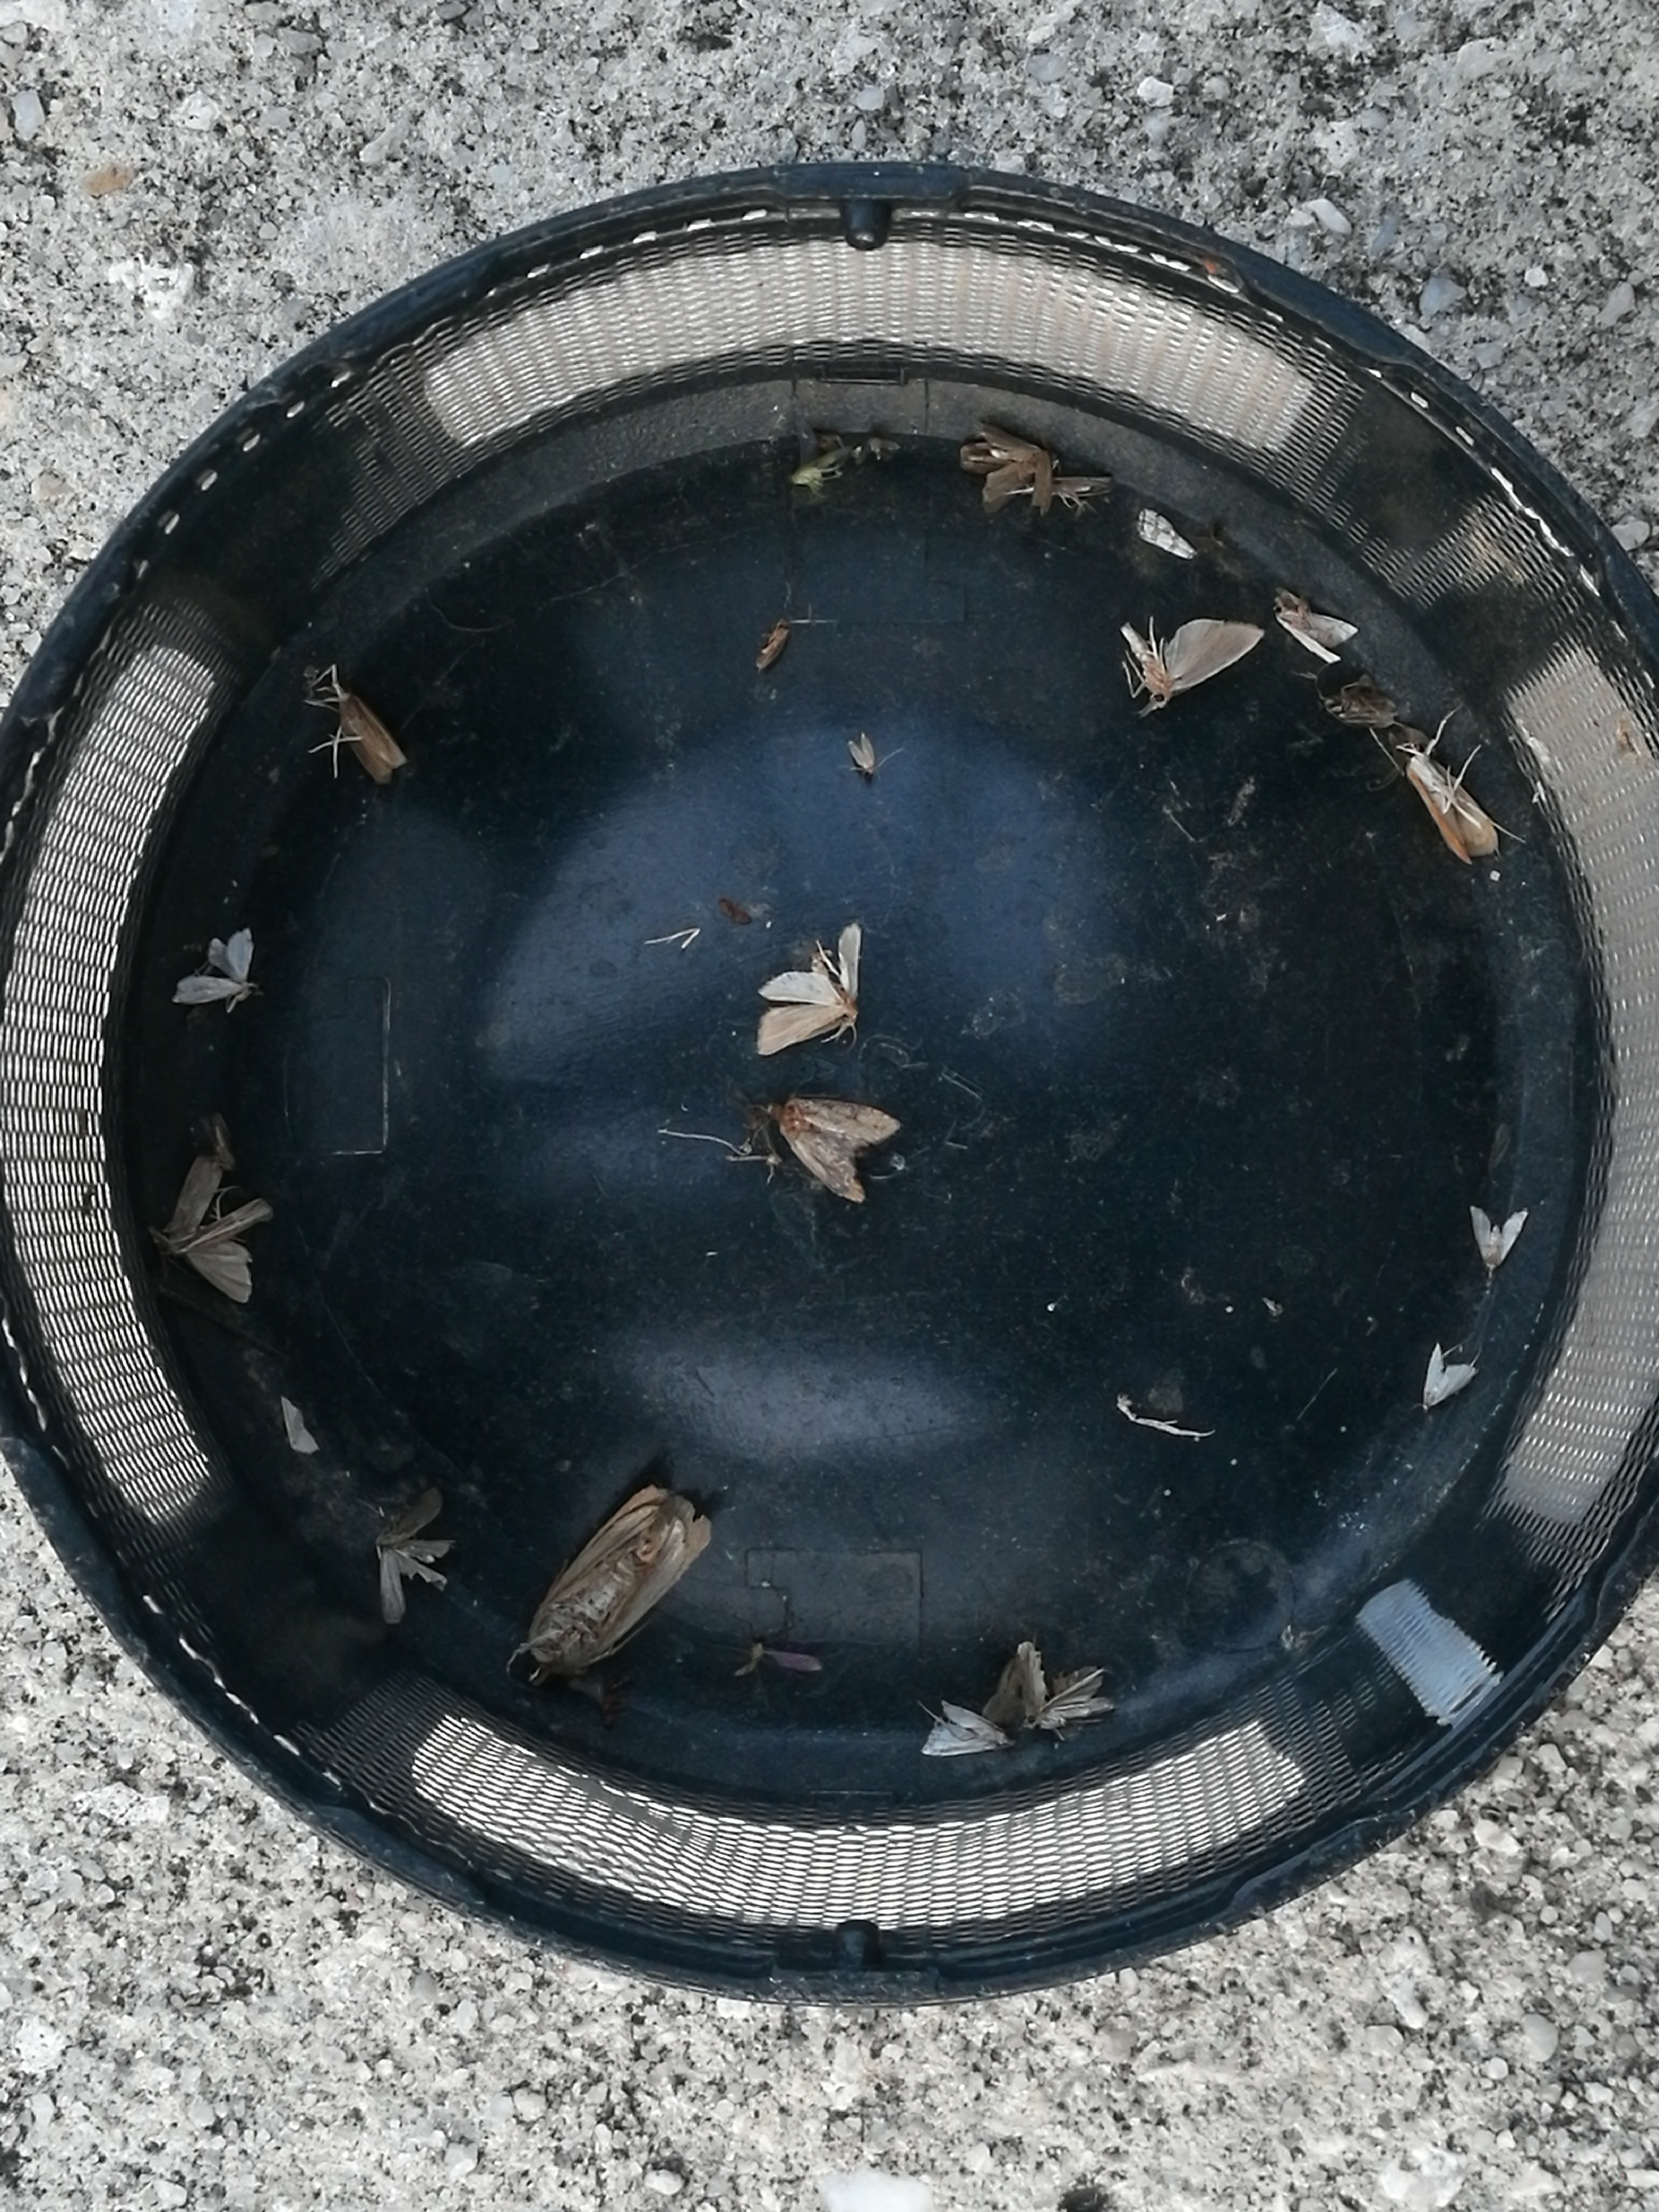mosquito: (338, 695, 404, 780), (1049, 474, 1114, 502)
moth: (528, 1484, 709, 1669), (164, 1158, 272, 1303), (769, 1096, 903, 1200), (755, 925, 861, 1055), (1121, 622, 1265, 714), (378, 1489, 455, 1622), (978, 425, 1049, 512), (171, 928, 251, 1001), (924, 1700, 1012, 1756), (1272, 604, 1359, 660), (1473, 1204, 1528, 1268), (1422, 1343, 1474, 1407), (847, 733, 873, 772)
